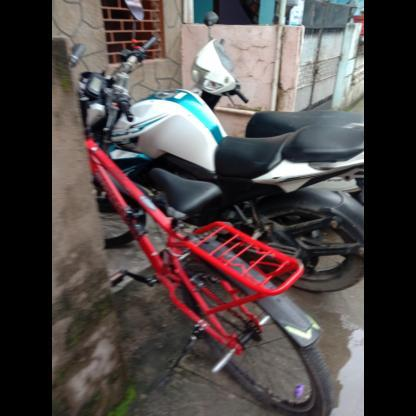Bicycle: (52, 58, 348, 416)
